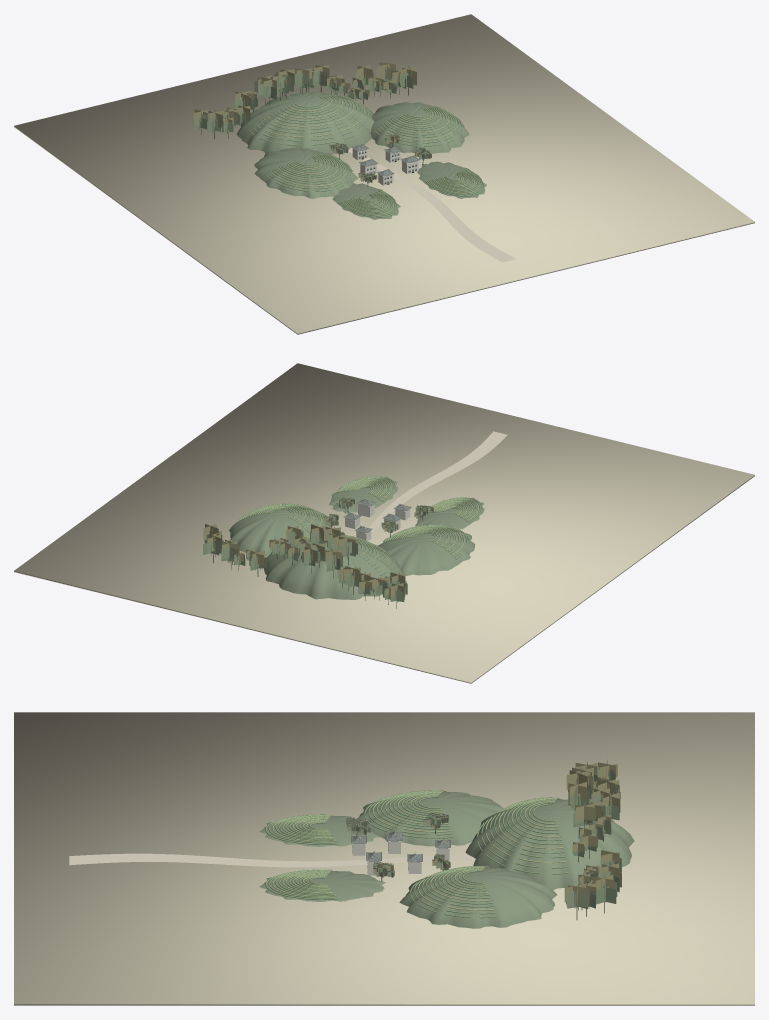
File: meijiawu.glb
3 views of the same model, one above another, from view 1: azimuth 30°, elevation 25°; view 2: azimuth 150°, elevation 25°; view 3: azimuth 270°, elevation 25° (orthographic). The views are drawn at different scales.
Parts seen in each view (by area): view 1: sand, earth, tea, tealight, crown2, crown1, crown0, stoneedge, plaster; view 2: sand, earth, crown2, tea, tealight, crown1, crown0, stoneedge, plaster; view 3: sand, earth, tea, tealight, crown2, stoneedge, crown0, crown1, plaster, roof, ridge.
Part boxes in pixels (bbox=[...]): sand: bbox=[14, 14, 754, 334]; earth: bbox=[237, 91, 486, 219]; tea: bbox=[249, 95, 483, 217]; tealight: bbox=[249, 95, 483, 216]; crown2: bbox=[193, 62, 431, 181]; crown1: bbox=[195, 68, 431, 182]; crown0: bbox=[194, 70, 429, 181]; stoneedge: bbox=[348, 148, 516, 262]; plaster: bbox=[352, 149, 418, 185]; sand: bbox=[14, 363, 754, 683]; earth: bbox=[229, 476, 484, 599]; crown2: bbox=[203, 497, 433, 598]; tea: bbox=[237, 476, 482, 576]; tealight: bbox=[239, 476, 481, 575]; crown1: bbox=[204, 498, 432, 599]; crown0: bbox=[203, 498, 430, 602]; stoneedge: bbox=[368, 431, 507, 534]; plaster: bbox=[345, 504, 410, 541]; sand: bbox=[14, 712, 754, 1005]; earth: bbox=[259, 791, 634, 928]; tea: bbox=[265, 790, 568, 918]; tealight: bbox=[266, 790, 568, 917]; crown2: bbox=[347, 759, 621, 903]; stoneedge: bbox=[69, 843, 473, 873]; crown0: bbox=[346, 773, 621, 910]; crown1: bbox=[346, 766, 621, 908]; plaster: bbox=[352, 841, 449, 875]; roof: bbox=[351, 832, 450, 861]; ridge: bbox=[351, 831, 450, 861].
Bounding box in the file's own units: 270 × 31.33 × 290.
